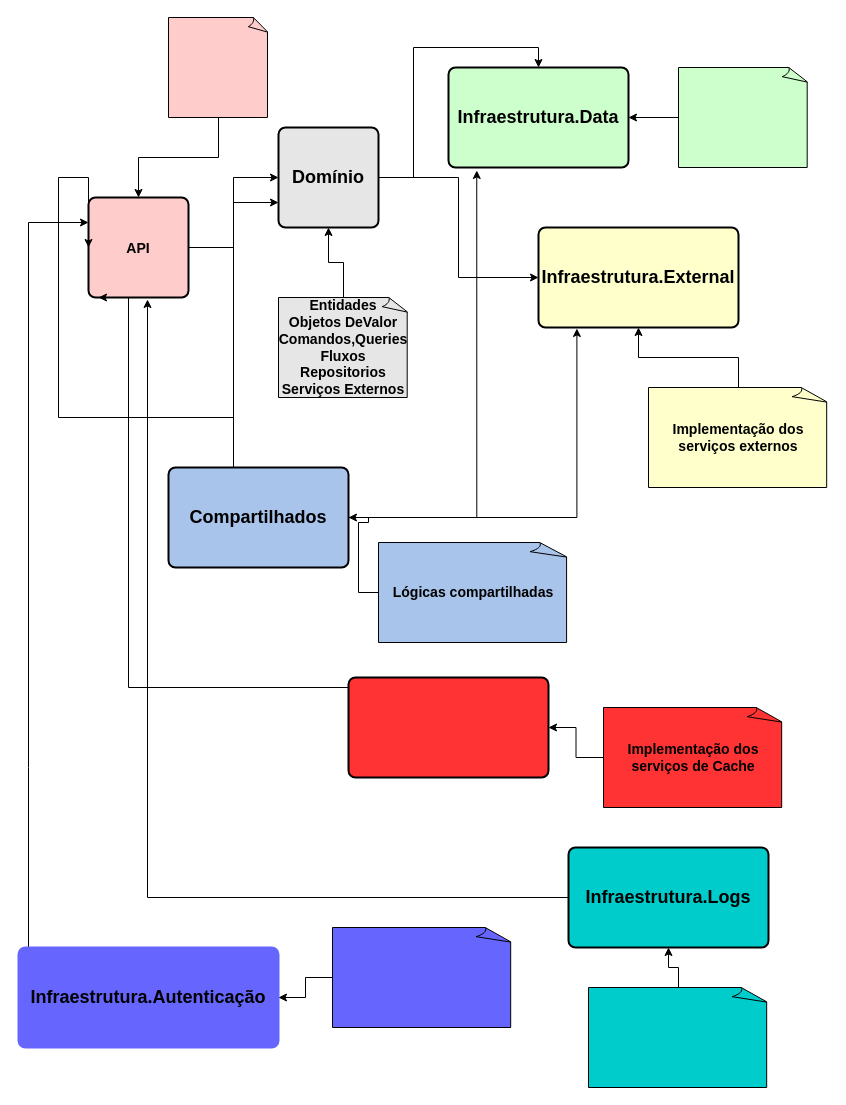
This 846x1105 diagram has some shape labels left out. The shapes that lost their labels are listed below. From the top down, each one's centre as x and y in pixels, then its label:
point 218,67: Endpoints Autenticação Autorização Configurações
point 743,117: Implementação dos repositórios
point 448,727: Infraestrutura.Cache
point 422,977: Implementação dos serviços de autenticação
point 678,1037: Implementação dos logs estruturados
